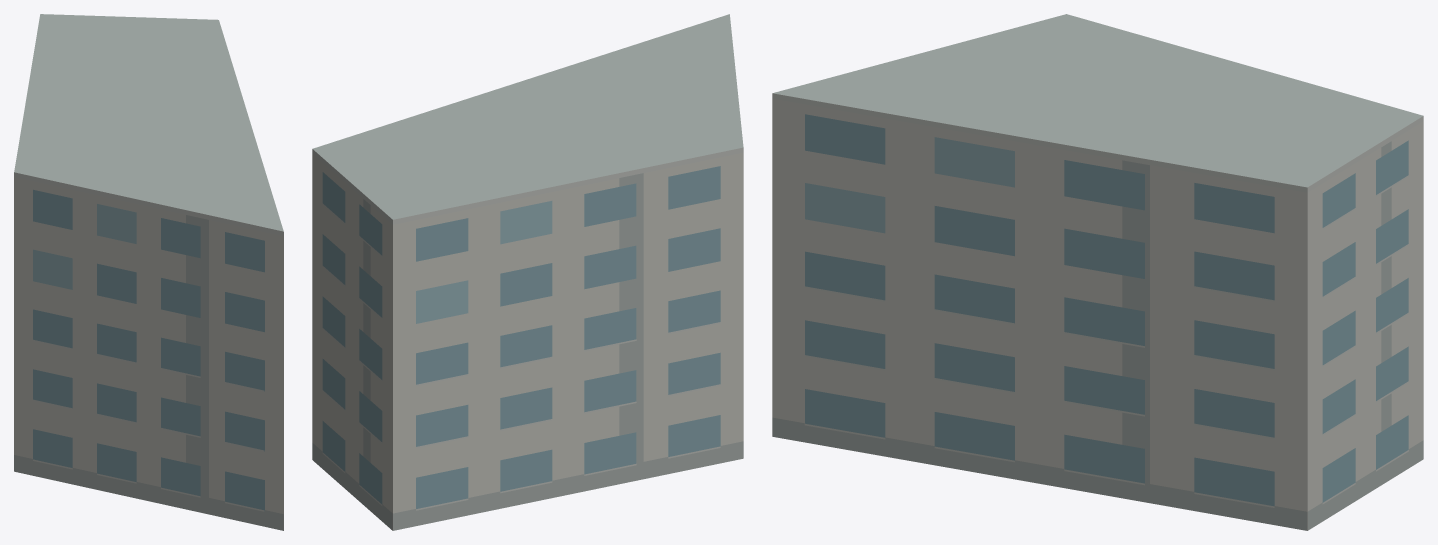
The model's file is residential-99a5d9f1-fc76-4566-9014-6f18083dec4d.glb.
3 renders of one model, left to right at view 1: azimuth 30°, elevation 25°; view 2: azimuth 150°, elevation 25°; view 3: azimuth 270°, elevation 25°, orthographic. The views are drawn at different scales.
Visible parts, largest first — view 1: residential-99a5d9f1-fc76-4566-9014-6f18083dec4d.tmp; view 2: residential-99a5d9f1-fc76-4566-9014-6f18083dec4d.tmp; view 3: residential-99a5d9f1-fc76-4566-9014-6f18083dec4d.tmp.
Part boxes in pixels (x1,y1,x2,y2): residential-99a5d9f1-fc76-4566-9014-6f18083dec4d.tmp: (14,14,283,530); residential-99a5d9f1-fc76-4566-9014-6f18083dec4d.tmp: (312,14,743,530); residential-99a5d9f1-fc76-4566-9014-6f18083dec4d.tmp: (772,14,1423,530).
Bounding box in the file's own units: 16.53 × 15.25 × 26.22.
